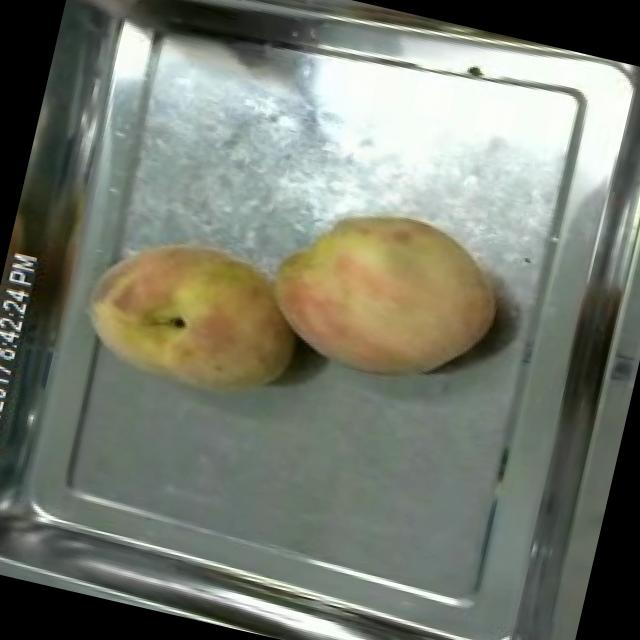Fruit: (254, 180, 518, 406), (64, 208, 323, 421)
